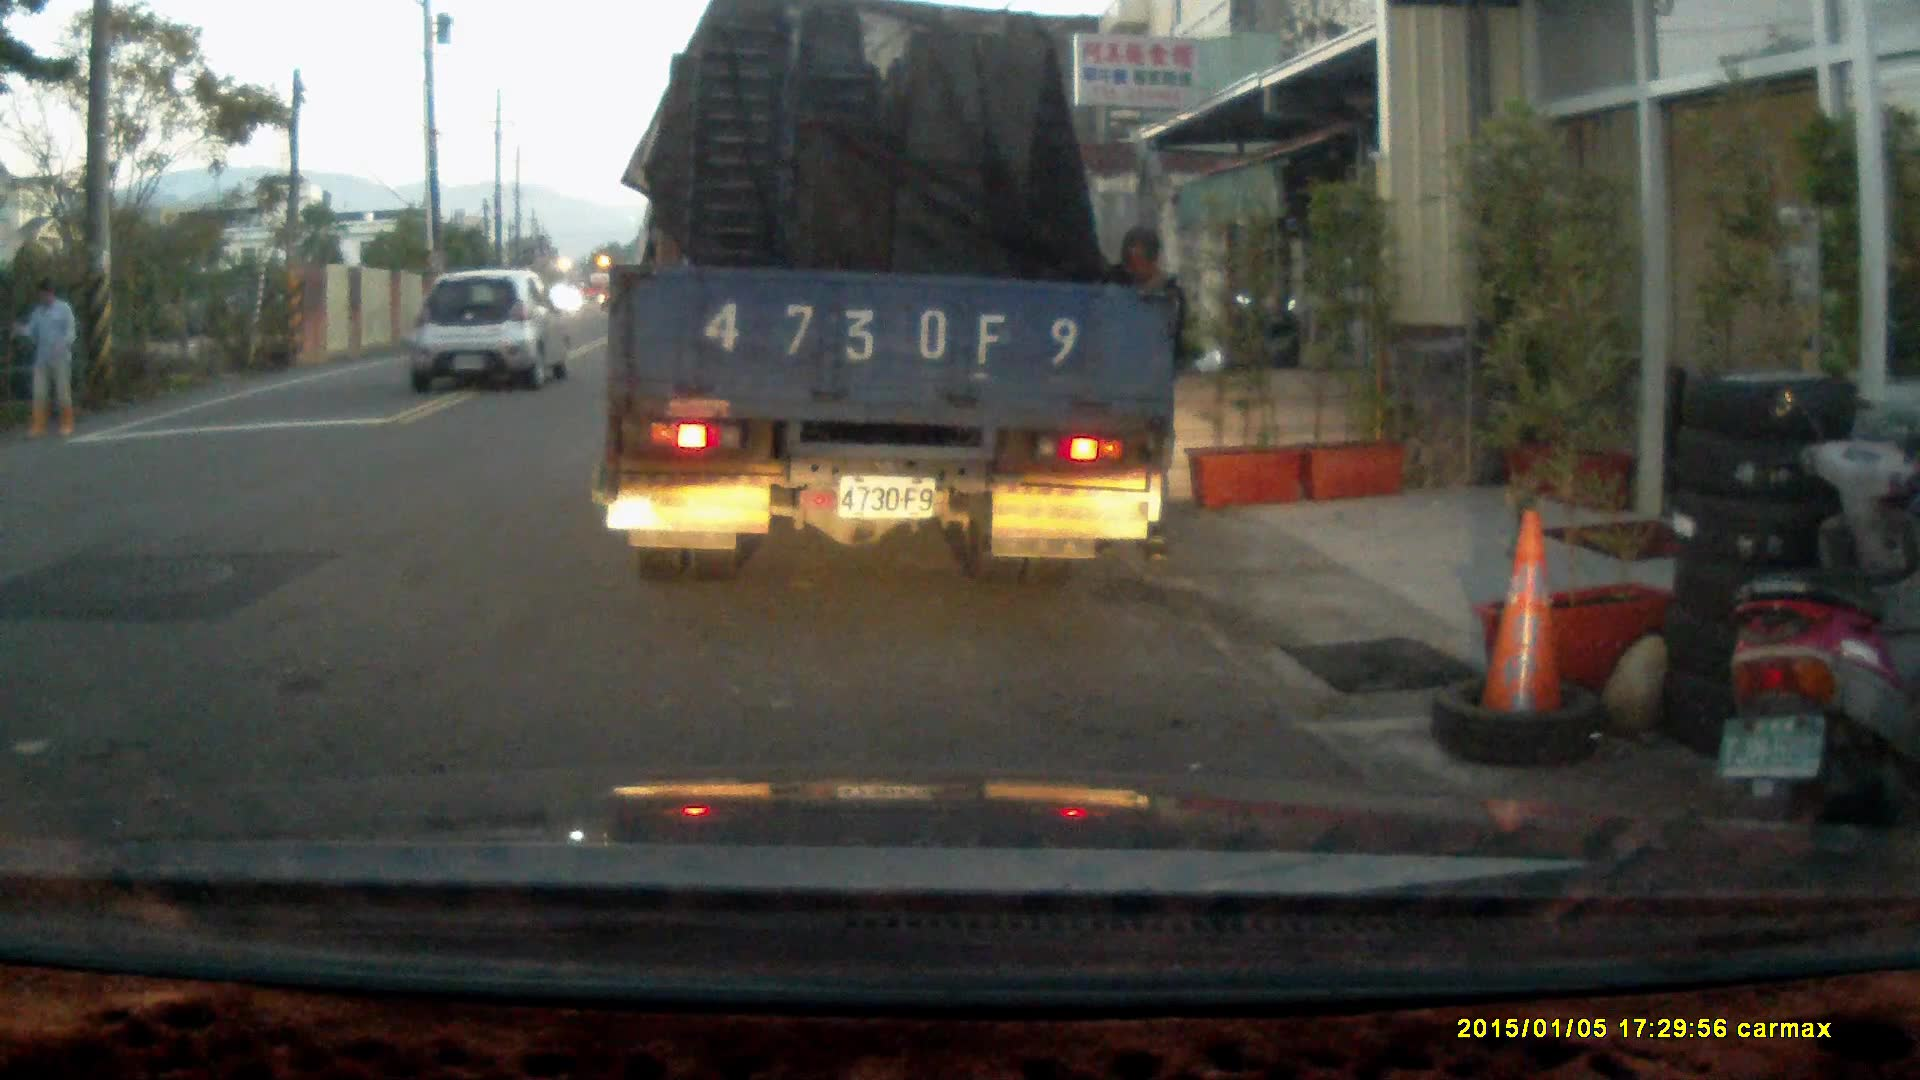pedestrian: (1085, 216, 1187, 566), (10, 280, 82, 439)
vehicle: (603, 23, 1187, 572), (404, 265, 575, 390)
